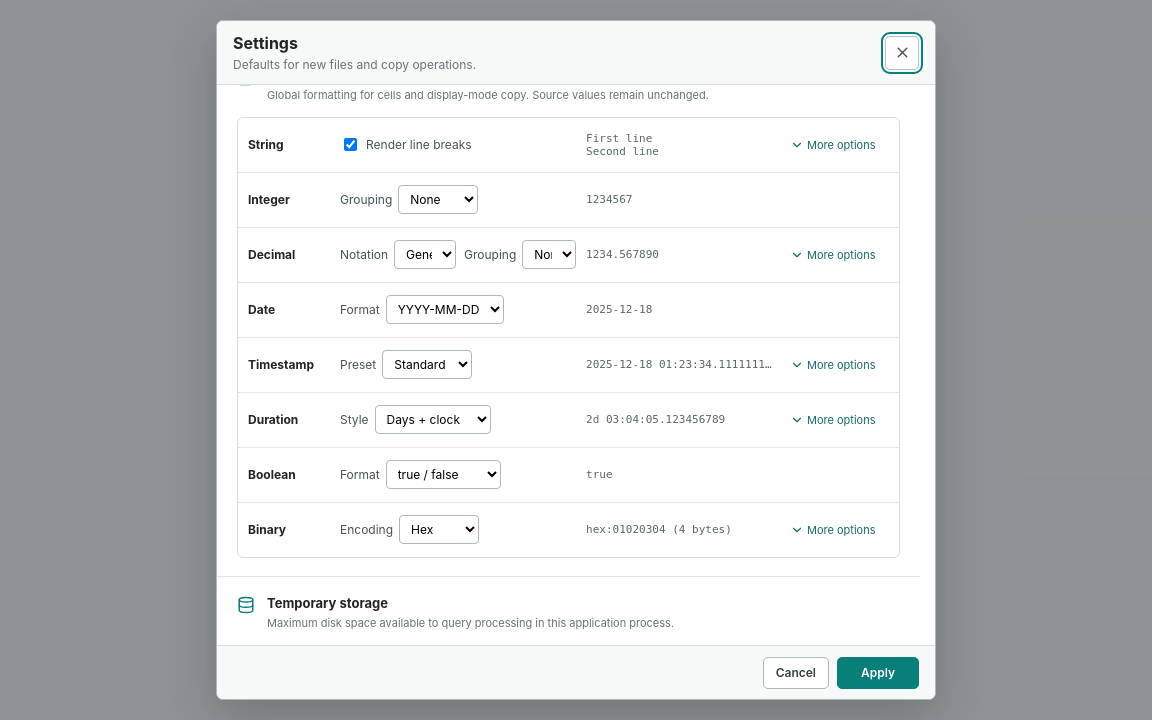
Test: AppSettingsDialog › keeps all format rows visible and allows only one inline detail panel
(page scrolled)
Click the button with aria-label "Show Timestamp details": (837, 365) [785,350,889,380]
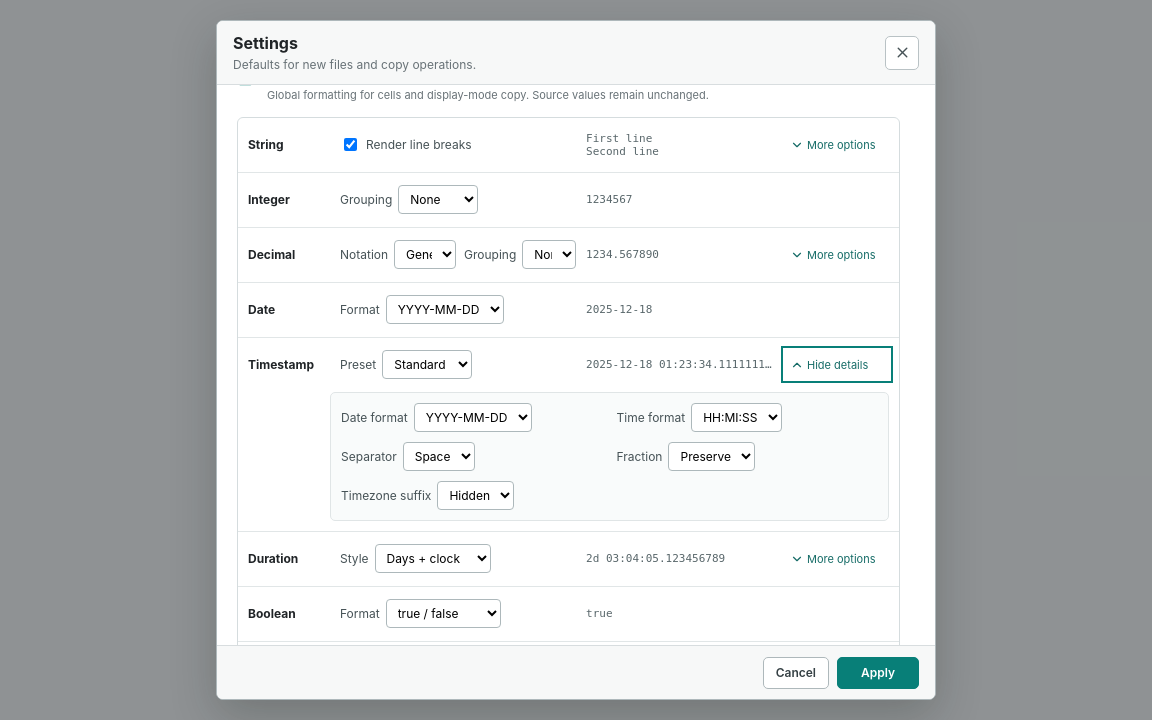
Expected: the dropdown named "Integer grouping" is shown, [398,186,478,214]
Expected: the element named "Timestamp details" is shown, [330,392,889,521]
Click the button with aria-label "Show Duration details": (837, 559) [785,544,889,574]
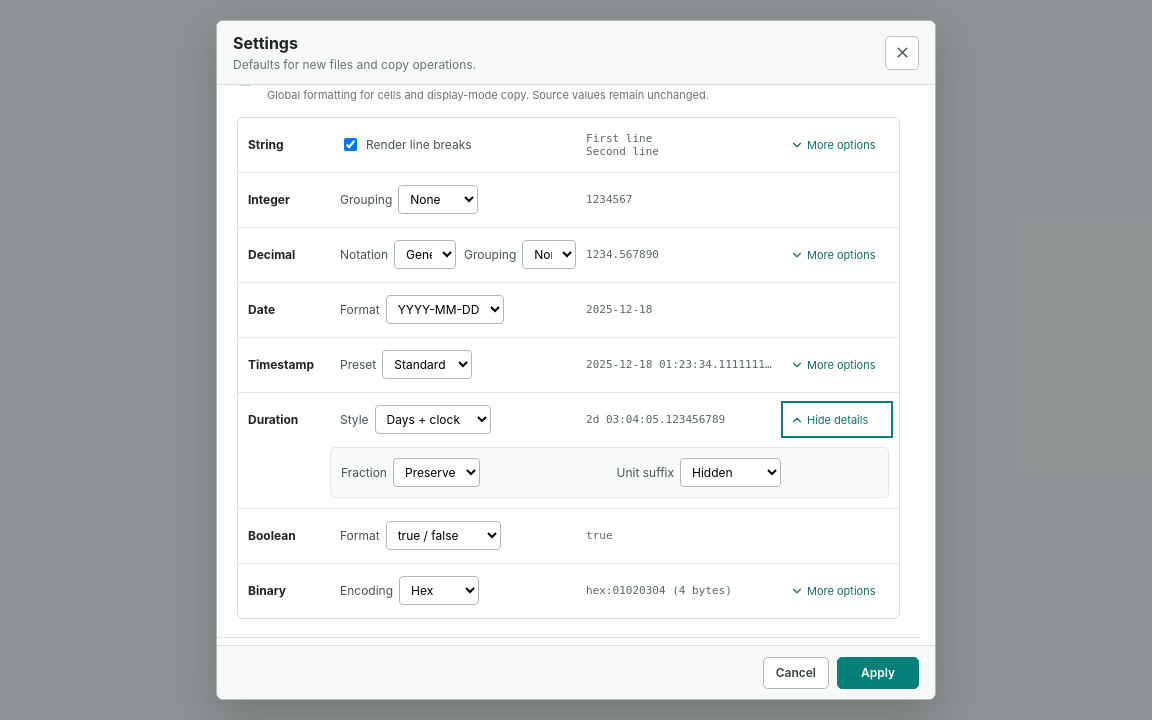
Expected: the element named "Duration details" is shown, [330,447,889,498]
